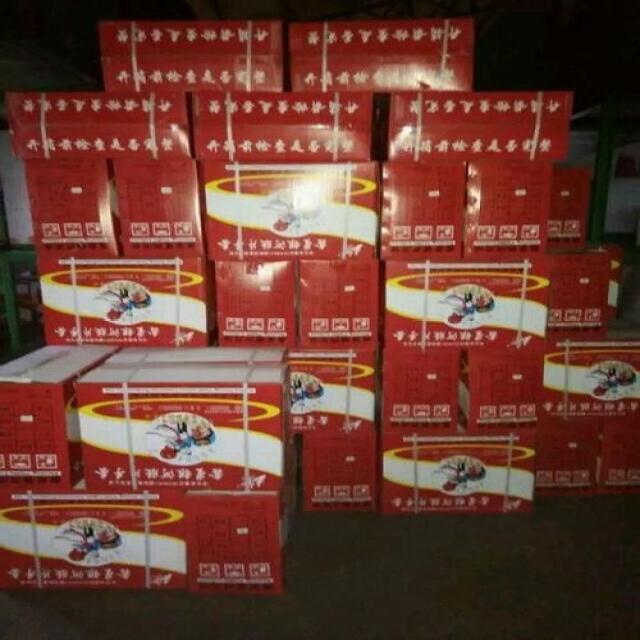box: (78, 347, 291, 493), (1, 340, 124, 496), (195, 154, 381, 256), (182, 432, 304, 586), (1, 489, 190, 588), (37, 252, 217, 349), (376, 253, 551, 350), (375, 89, 572, 164), (385, 416, 537, 509), (284, 19, 472, 90), (187, 89, 374, 159), (9, 90, 191, 159), (100, 21, 284, 88), (539, 322, 639, 423), (110, 155, 206, 254), (375, 159, 469, 258), (22, 159, 118, 254), (465, 162, 551, 256), (280, 345, 375, 429), (294, 259, 382, 346), (457, 348, 548, 432), (213, 256, 297, 346), (298, 428, 384, 509), (373, 348, 456, 429), (549, 249, 607, 340), (539, 419, 598, 491), (549, 167, 590, 250), (590, 419, 639, 488), (15, 252, 46, 356), (0, 251, 23, 366), (593, 241, 623, 319)
